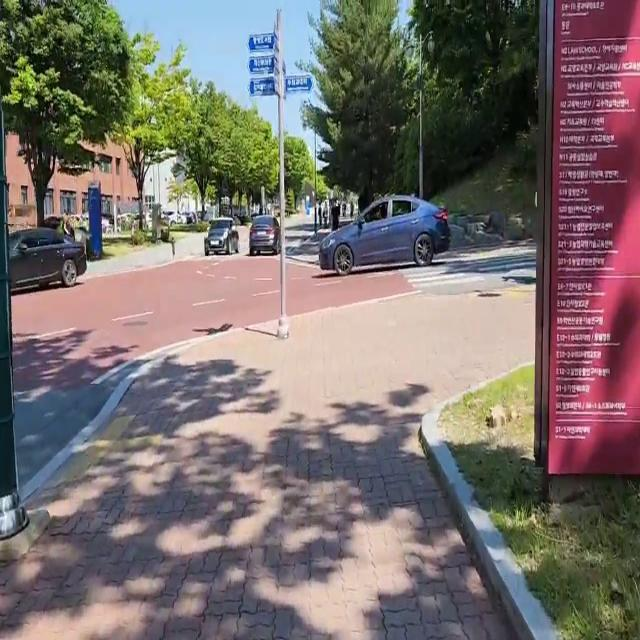car: (314, 187, 460, 272), (9, 228, 87, 292), (203, 212, 244, 257), (248, 214, 282, 260)
streetlamp: (402, 26, 434, 196)
